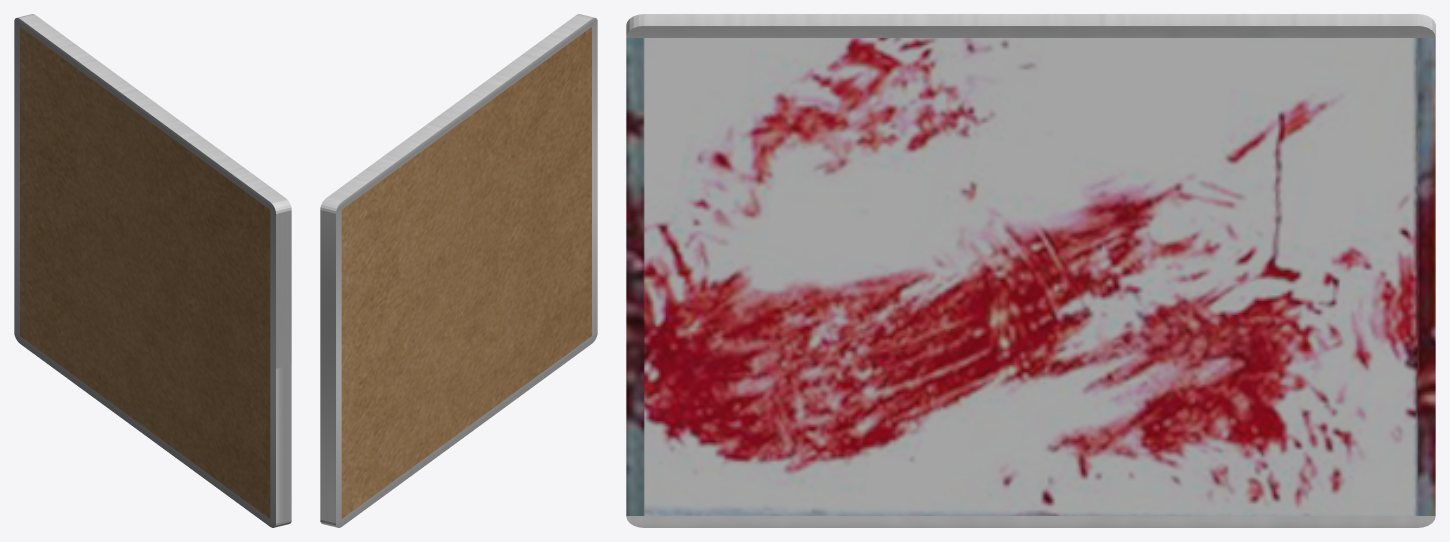
The model's file is AuthenticAndySign.fbx.
The picture shows the model from 3 angles, left to right: view 1: azimuth 30°, elevation 25°; view 2: azimuth 150°, elevation 25°; view 3: azimuth 270°, elevation 25°; orthographic projection. The views are drawn at different scales.
Visible parts, largest first — view 1: Cube; view 2: Cube; view 3: Cube.
Boxes of the visible parts, x1,y1,x2,y2 form: Cube: (14, 14, 291, 527); Cube: (320, 14, 597, 527); Cube: (626, 14, 1435, 527).
Size of the model in its own units: 10.14 by 200 by 292.
